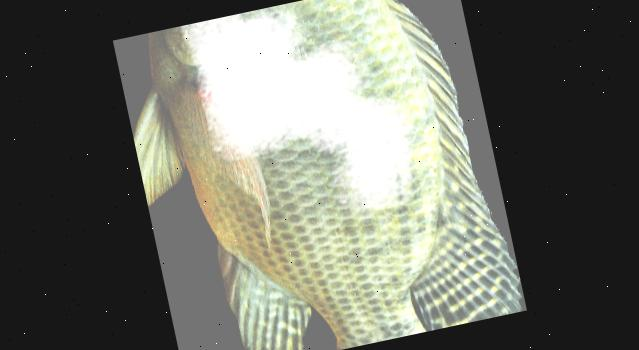Fungal Disease -Saprolegniasis-: (134, 0, 520, 350), (135, 0, 519, 350)
